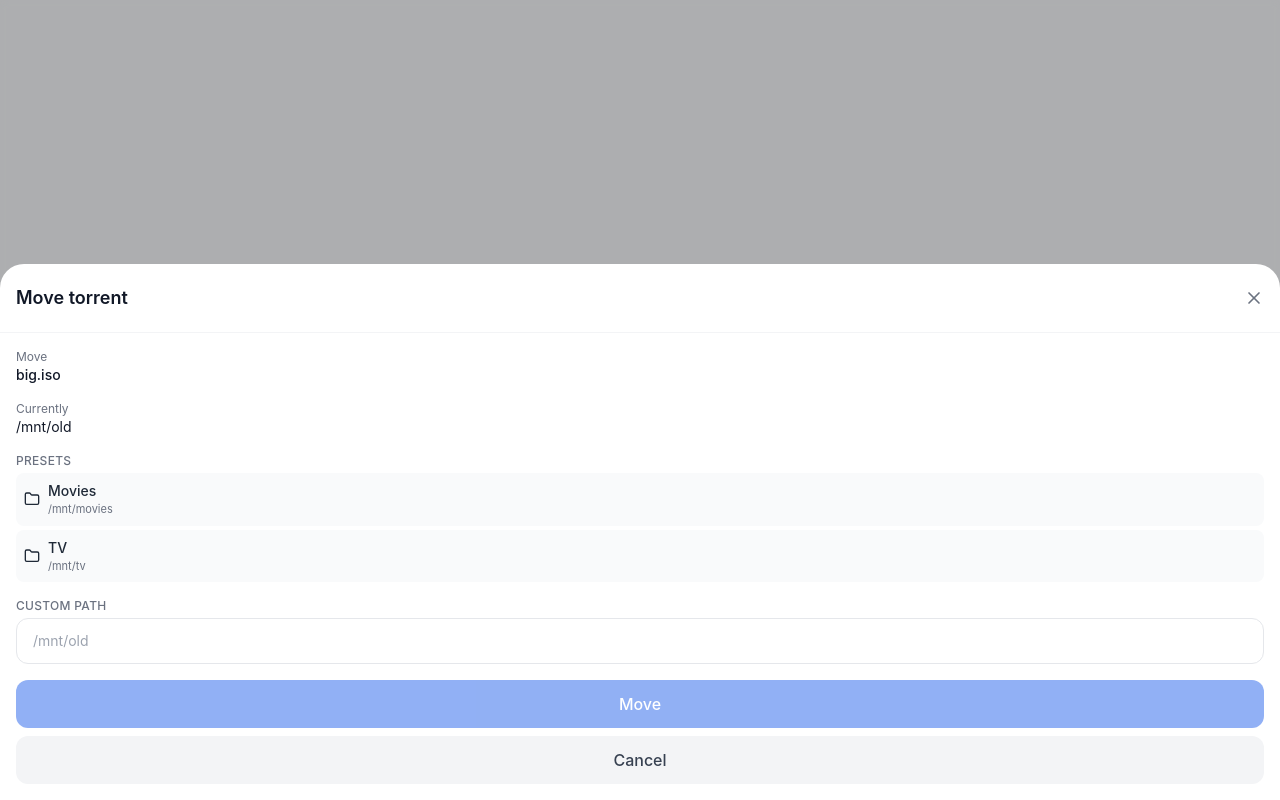
Test case: MoveLocationSheet › tapping a preset fills the path and enables Submit
This screenshot has width=1280, height=800.
Expected: the button "Move" is disabled, x1=16 y1=680 x2=1264 y2=728
What coordinates should you click on to do the following:
click the button "Movies /mnt/movies"
I would click on:
 (72, 490)
Its box is x1=16 y1=473 x2=1264 y2=526.
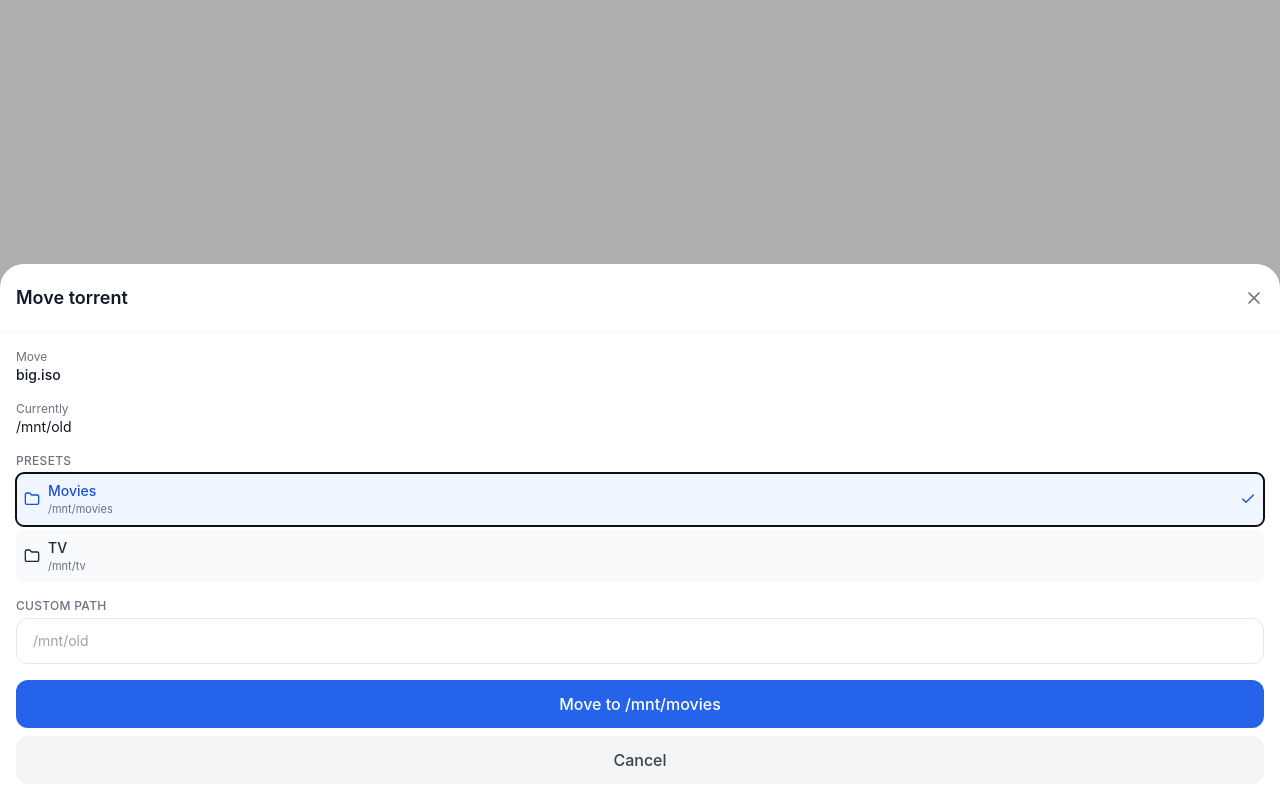
Now the button "Move to /mnt/movies" is enabled, box x1=16 y1=680 x2=1264 y2=728
